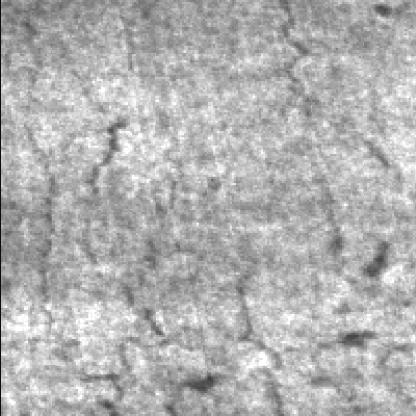crazing: (29, 16, 214, 414), (235, 175, 401, 414), (279, 0, 393, 283)
